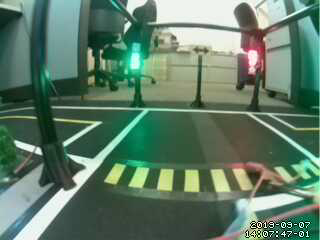Left_Right_sign: (185, 41, 217, 57)
Traffic_light_green: (128, 44, 139, 72)
Traffic_light_red: (247, 49, 259, 75)
